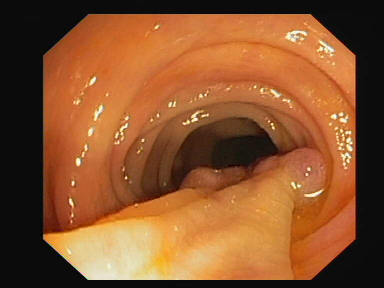polyp: (254, 150, 322, 191), (178, 166, 246, 189)
